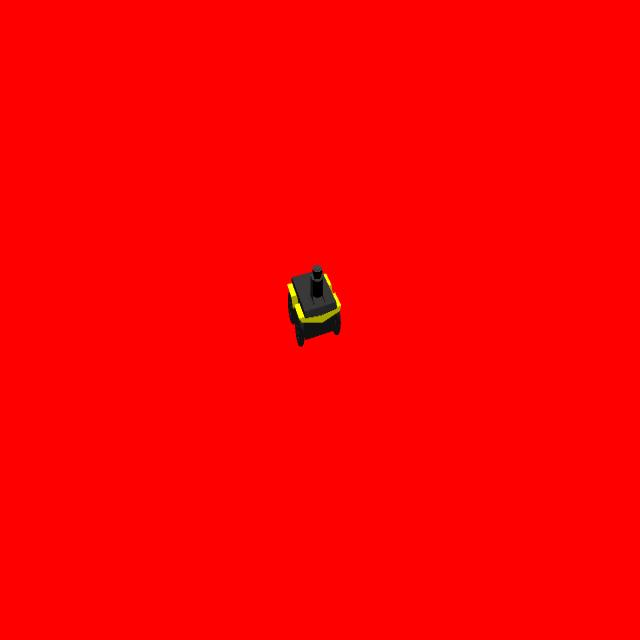jackal: (286, 261, 342, 348)
